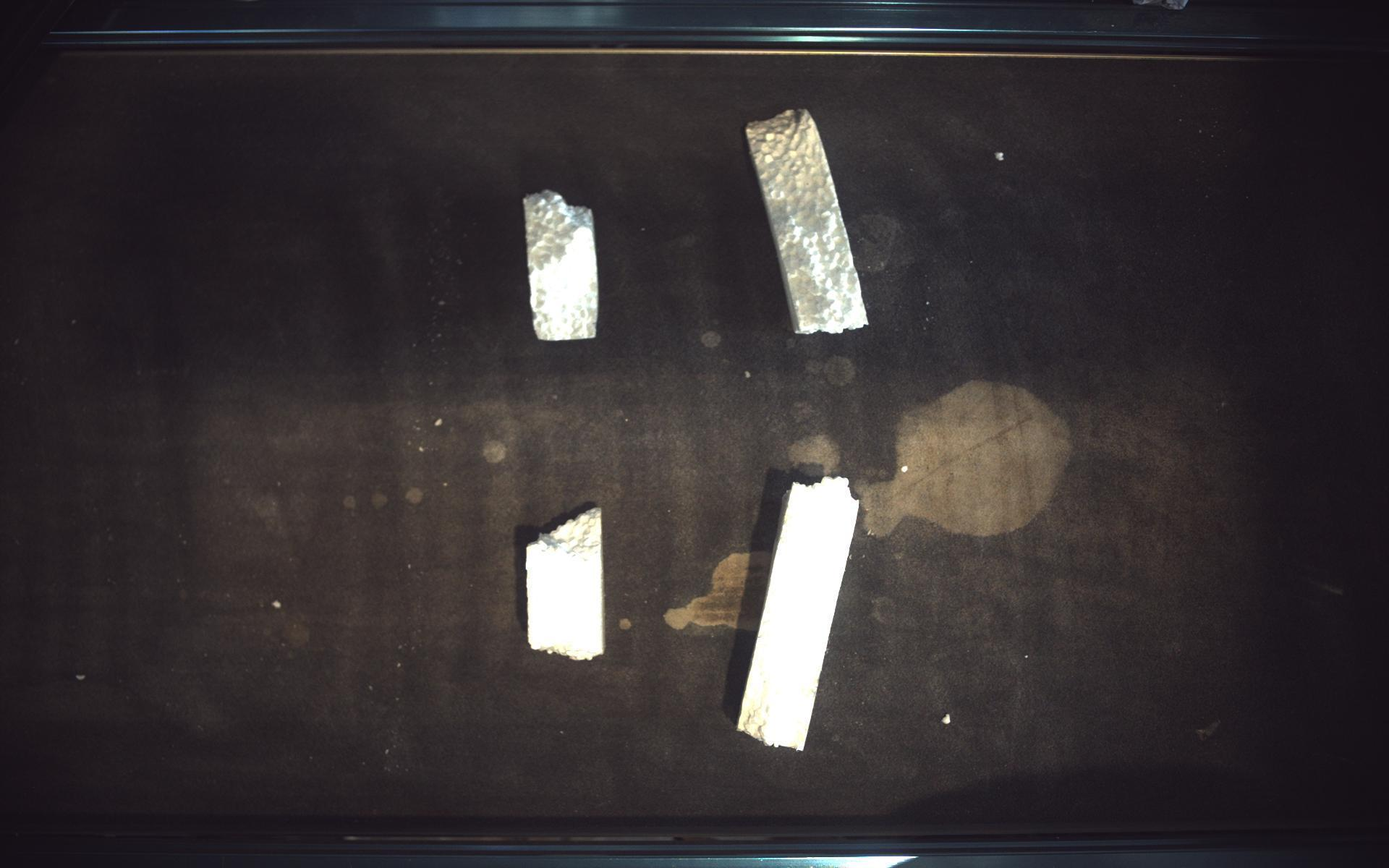foam: (739, 477, 861, 752), (747, 109, 870, 333), (527, 508, 605, 661), (524, 190, 599, 341)
